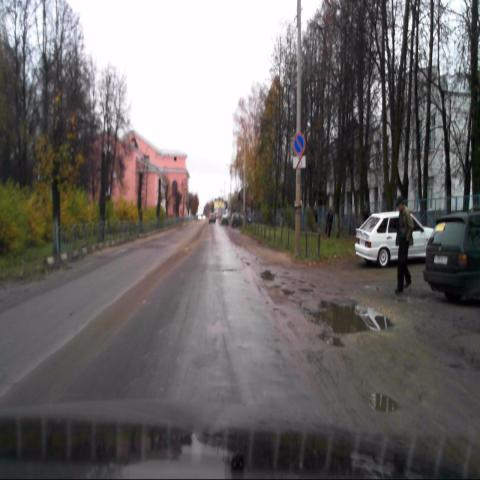3_28: (292, 132, 305, 155)
8_18: (292, 156, 306, 168)
